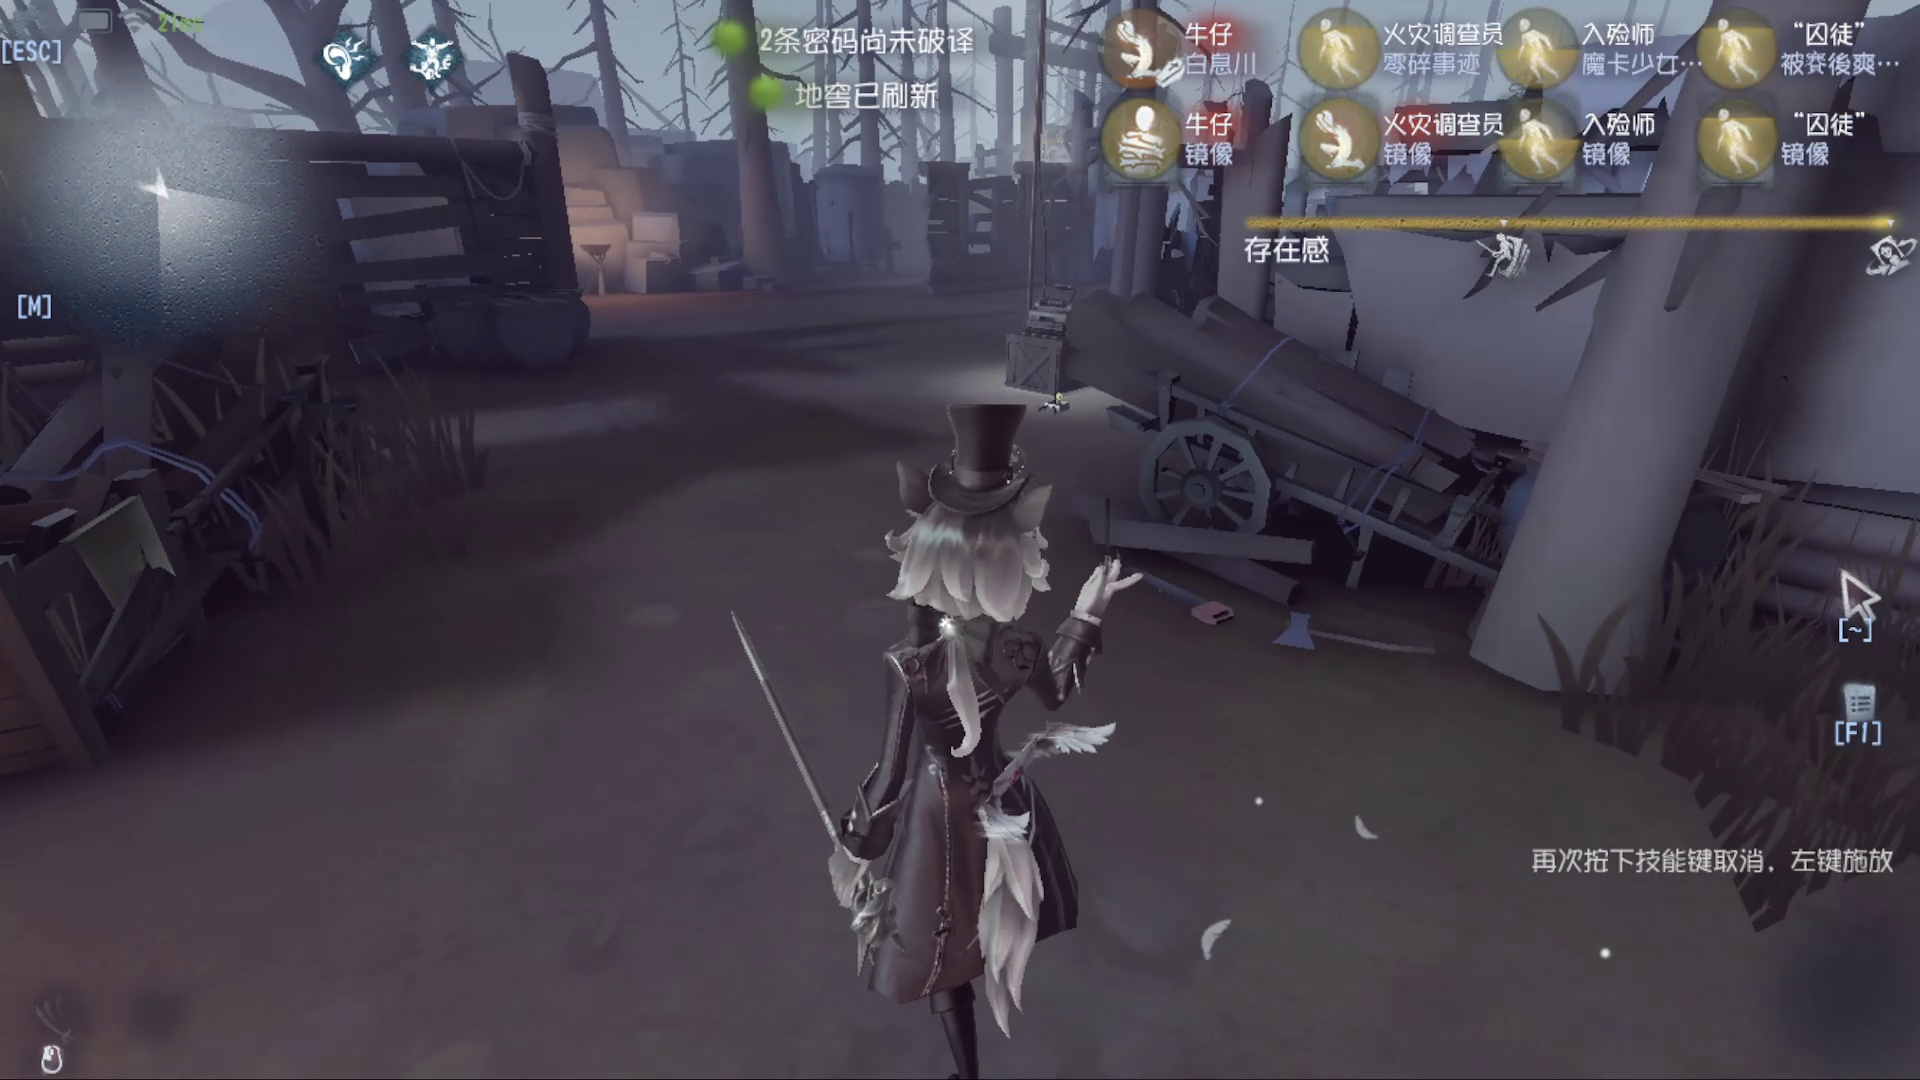密码机: (996, 69, 1095, 415)
